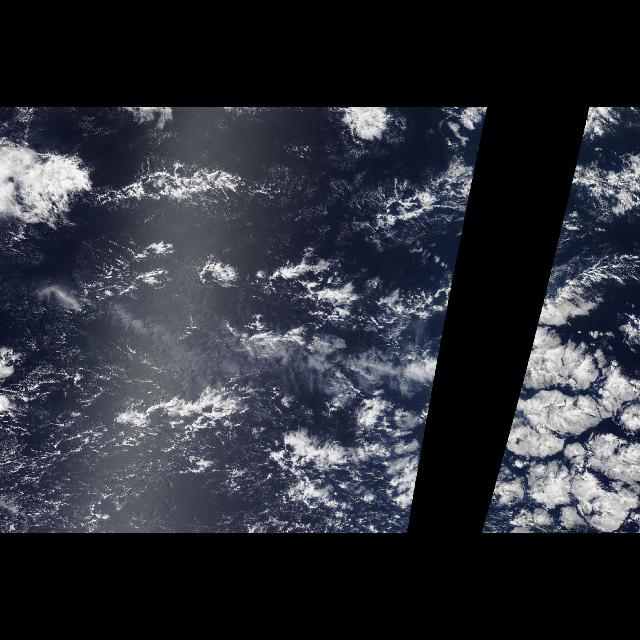Flower: (480, 289, 640, 533), (431, 290, 454, 402)
Sugar: (23, 386, 317, 532)
